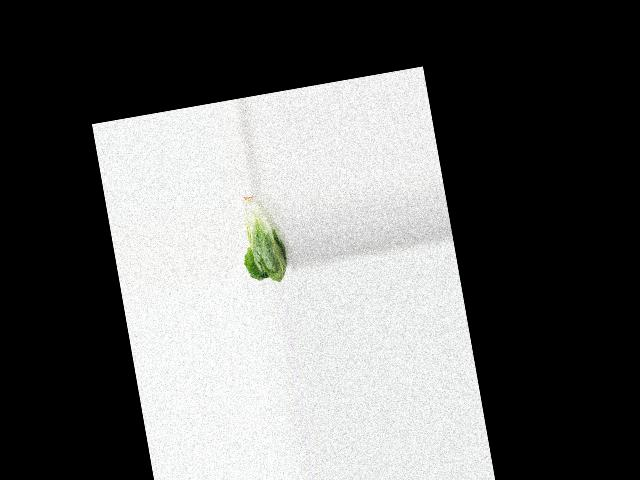lettuce: (231, 187, 292, 287)
